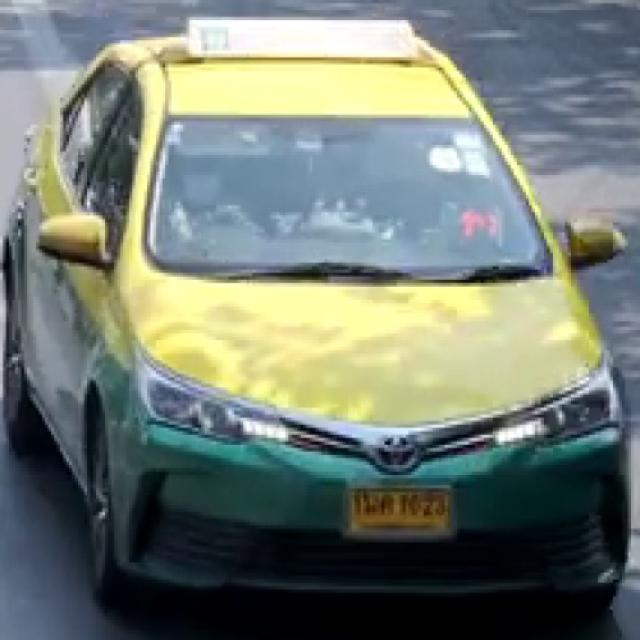plate: (345, 485, 452, 535)
